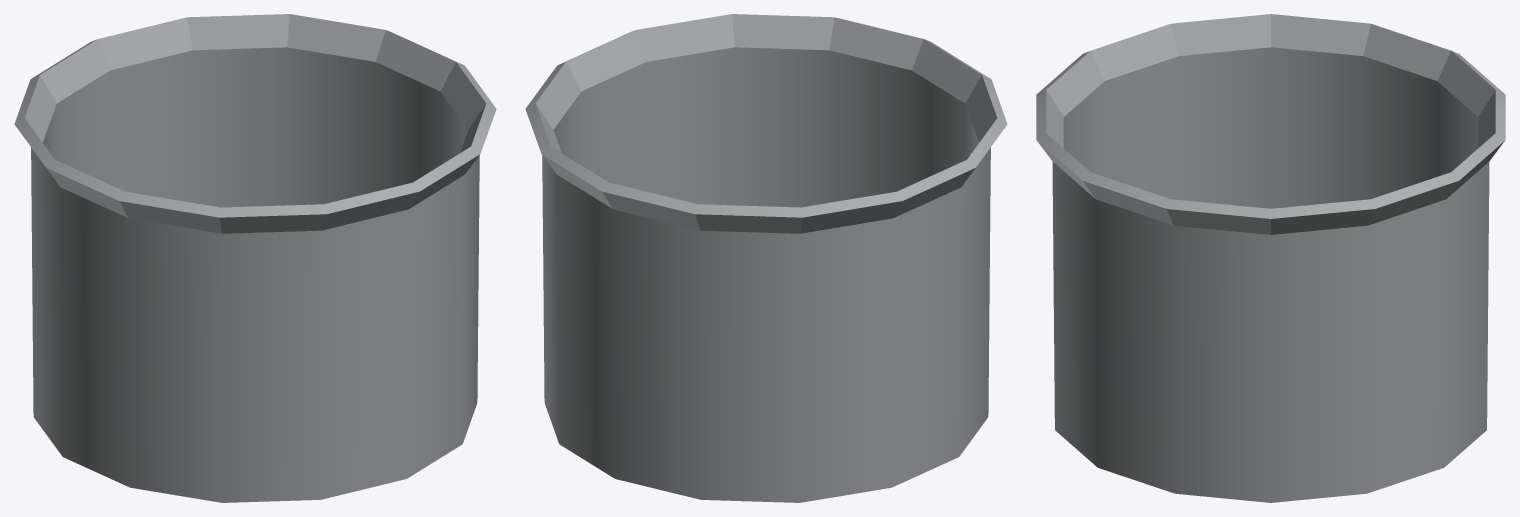
Rendered from SM_pot_03.fbx.
3 views of the same model, side by side, from view 1: azimuth 30°, elevation 25°; view 2: azimuth 150°, elevation 25°; view 3: azimuth 270°, elevation 25° (orthographic).
Parts seen in each view (by area): view 1: Cylinder044; view 2: Cylinder044; view 3: Cylinder044.
Part boxes in pixels (box(x1,y1,x2,y2)): Cylinder044: box(14, 14, 496, 502); Cylinder044: box(525, 14, 1007, 502); Cylinder044: box(1036, 14, 1505, 502).
Size of the model in its own units: 20.8 by 20.28 by 14.2.
